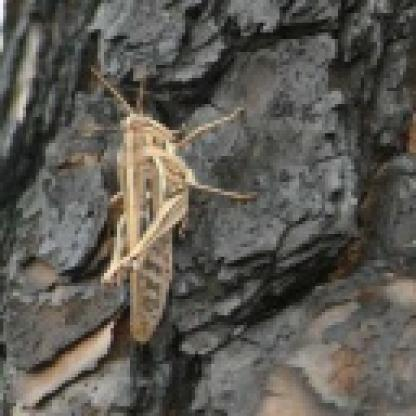grasshopper: (88, 47, 264, 349)
